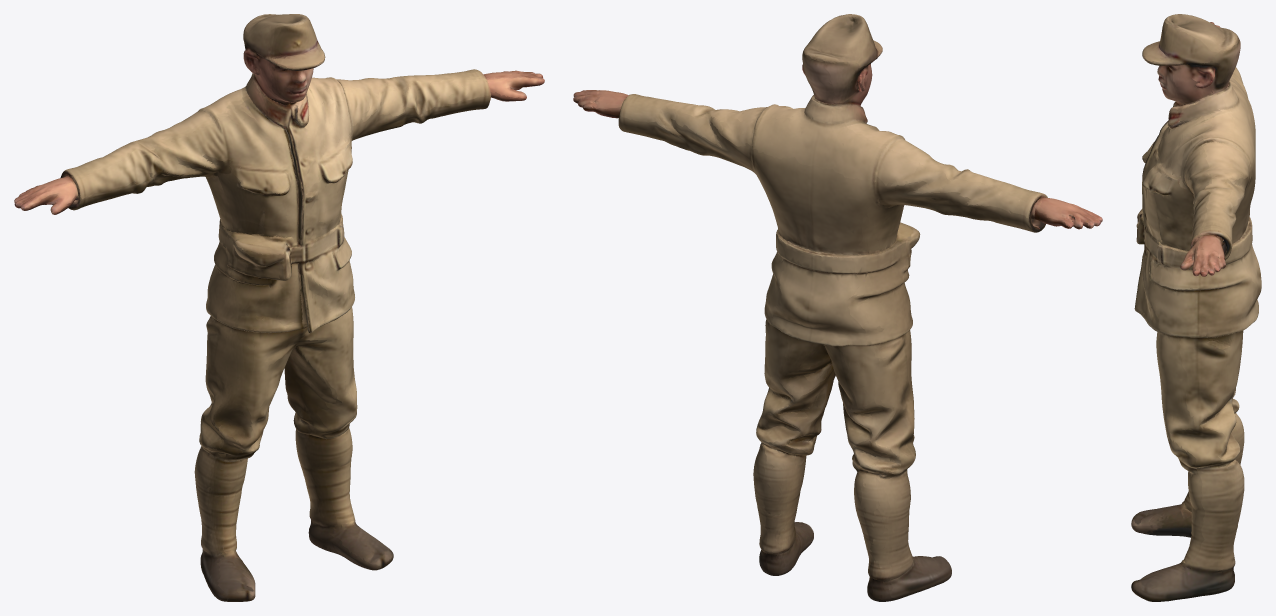
Rendered from ija_soldier_apose.glb.
3 views of the same model, side by side, from view 1: azimuth 30°, elevation 25°; view 2: azimuth 150°, elevation 25°; view 3: azimuth 270°, elevation 25° (orthographic).
Visible parts, largest first — view 1: geometry_0; view 2: geometry_0; view 3: geometry_0.
Boxes of the visible parts, x1,y1,x2,y2 form: geometry_0: (14, 14, 544, 601); geometry_0: (573, 14, 1102, 601); geometry_0: (1131, 14, 1261, 601).
Bounding box in the file's own units: 1.75 × 1.75 × 0.3811.
1 material, 1 textured.
